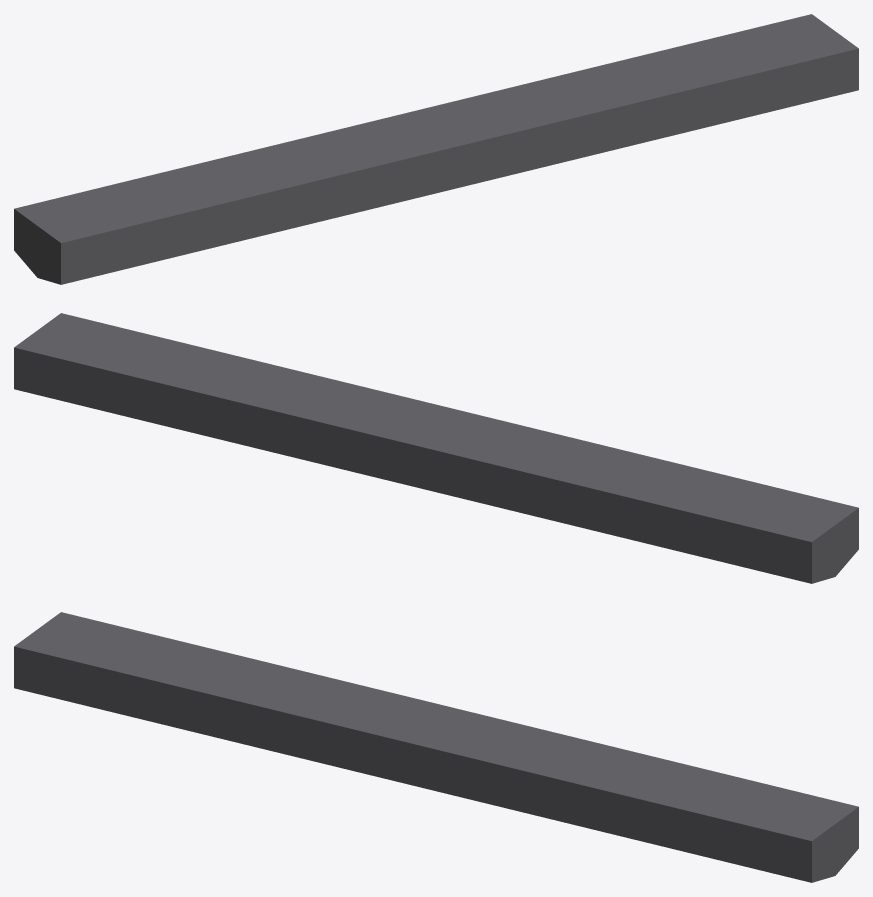
File: FluorescentLight_On.glb
3 renders of one model, top to bottom at view 1: azimuth 30°, elevation 25°; view 2: azimuth 150°, elevation 25°; view 3: azimuth 330°, elevation 25°, orthographic.
Parts seen in each view (by area): view 1: fluorescentLight_On; view 2: fluorescentLight_On; view 3: fluorescentLight_On.
Boxes of the visible parts, box(x1,y1,x2,y2) form: fluorescentLight_On: box(14, 14, 858, 284); fluorescentLight_On: box(14, 313, 858, 583); fluorescentLight_On: box(14, 612, 858, 882).
Size of the model in its own units: 2 by 0.1246 by 0.2046.
Materials: 2 (2 with a texture image).
